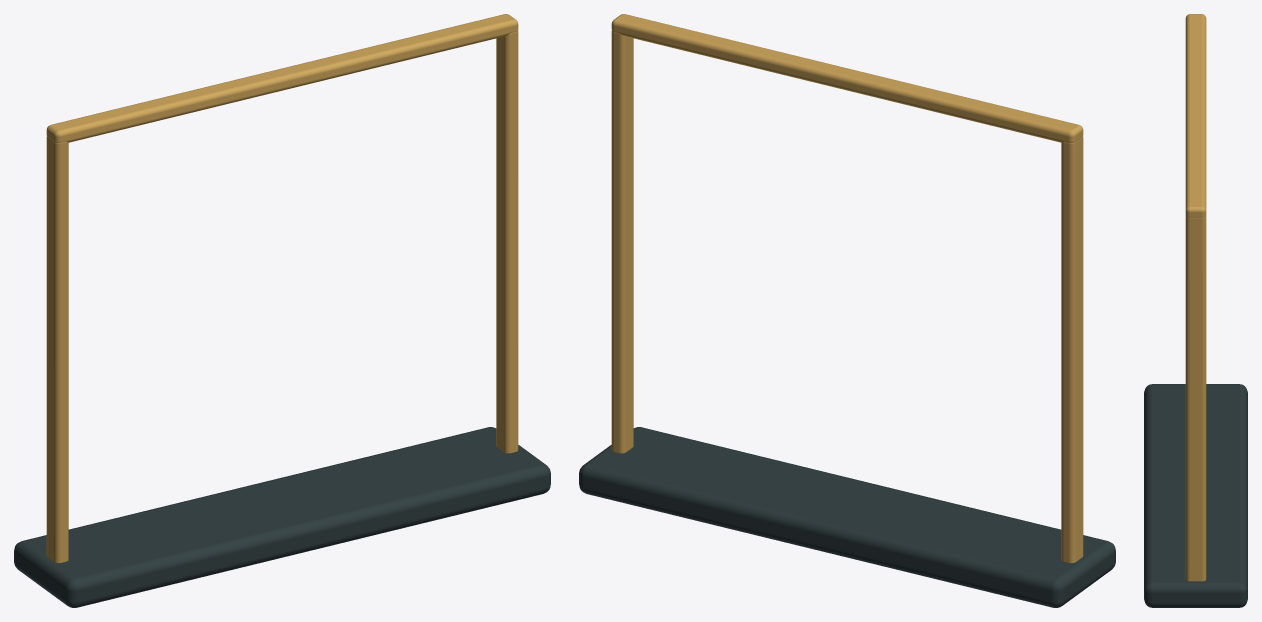
The model's file is highlight.glb.
The picture shows the model from 3 angles, left to right: view 1: azimuth 30°, elevation 25°; view 2: azimuth 150°, elevation 25°; view 3: azimuth 270°, elevation 25°; orthographic projection. The views are drawn at different scales.
Visible parts, largest first — view 1: highlight; view 2: highlight; view 3: highlight.
Boxes of the visible parts, x1,y1,x2,y2 form: highlight: [14, 14, 550, 607]; highlight: [579, 14, 1115, 607]; highlight: [1144, 14, 1247, 607].
Size of the model in its own units: 1.4 by 1.27 by 0.3.
